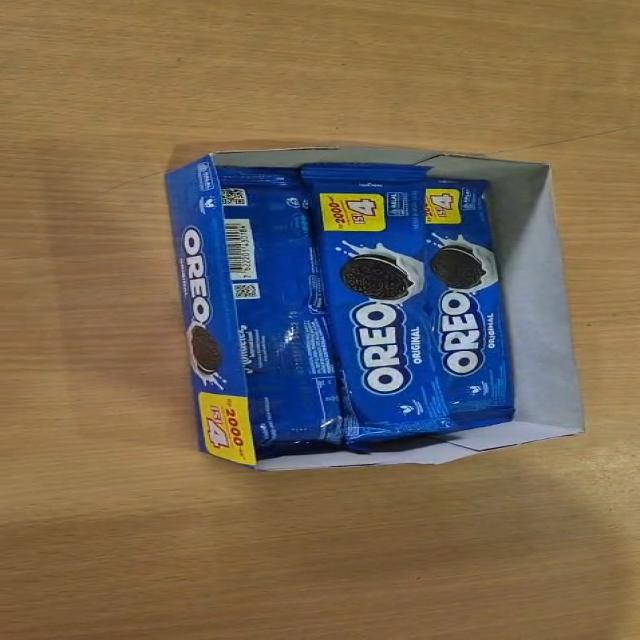Oreo: (300, 163, 465, 454), (216, 168, 344, 459), (426, 178, 517, 430)
